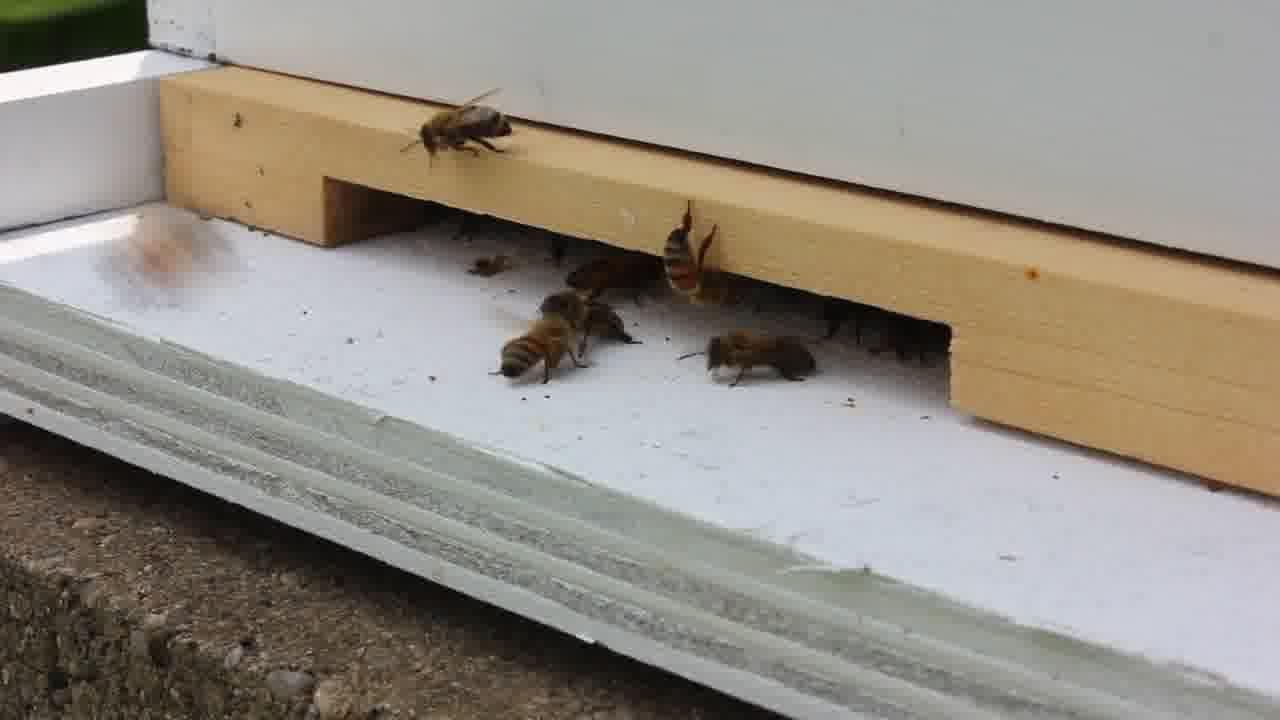pollen: (494, 316, 592, 390)
